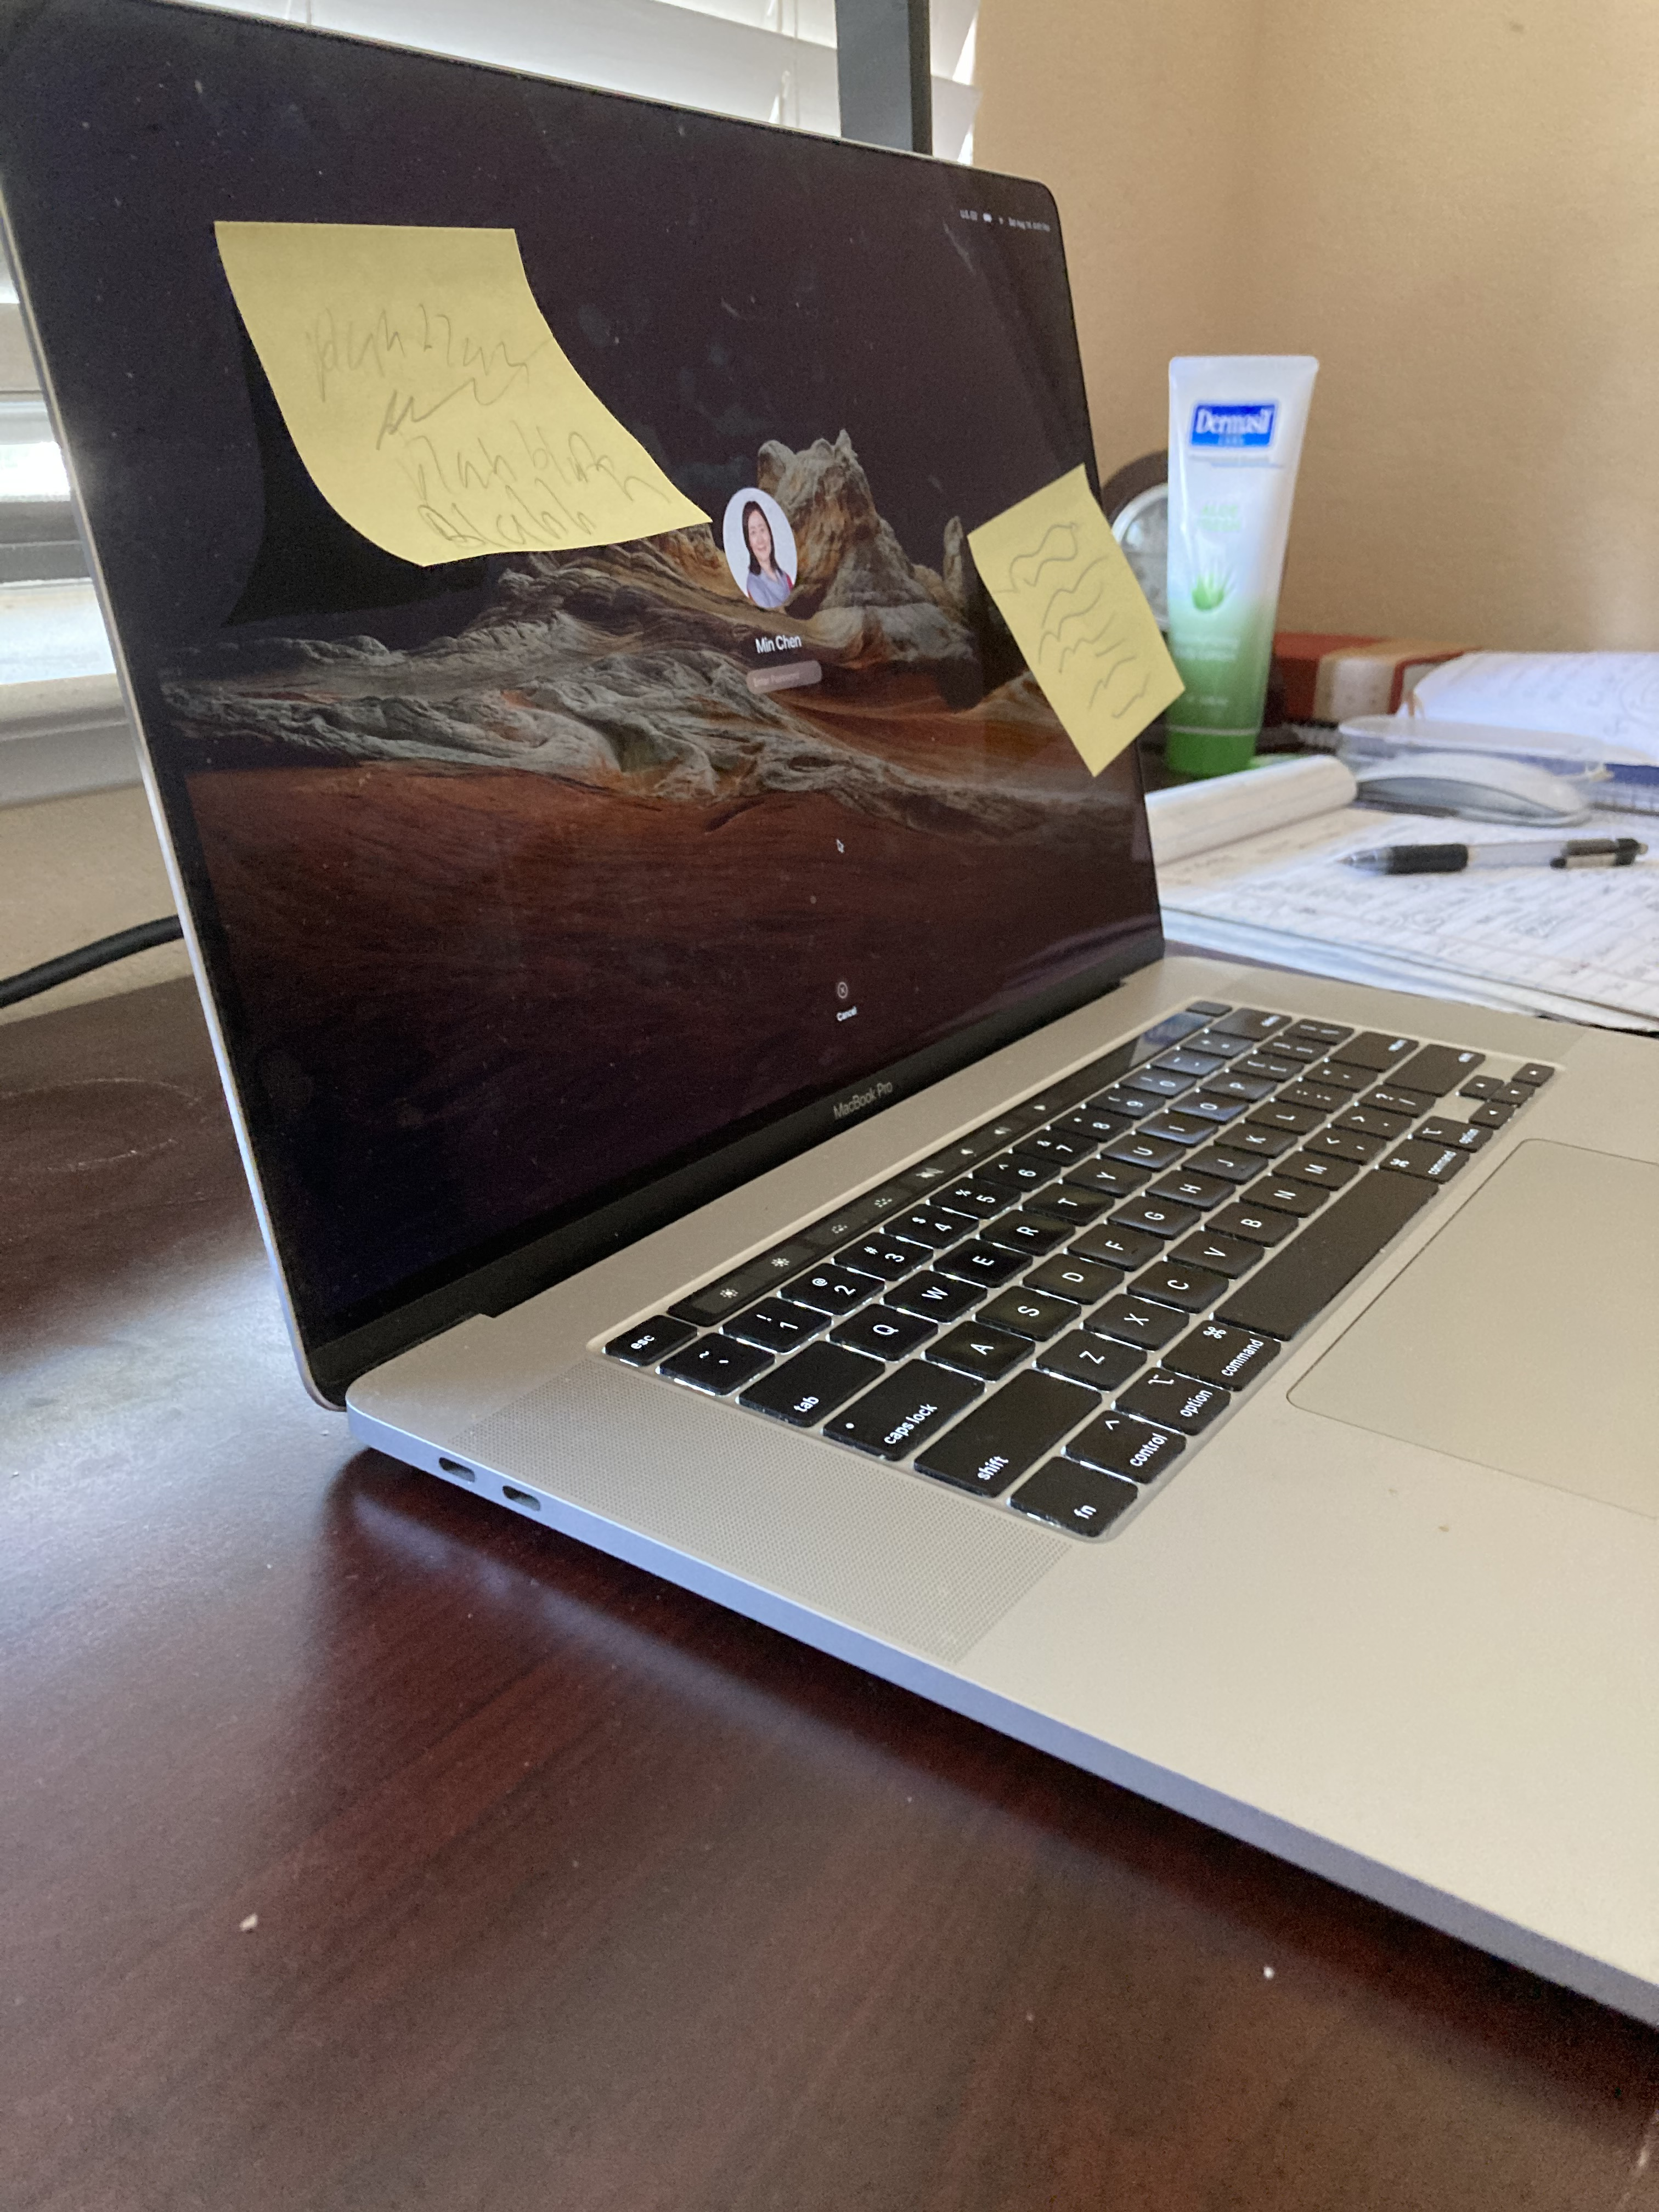Note: (220, 195, 725, 590), (972, 469, 1195, 770)
